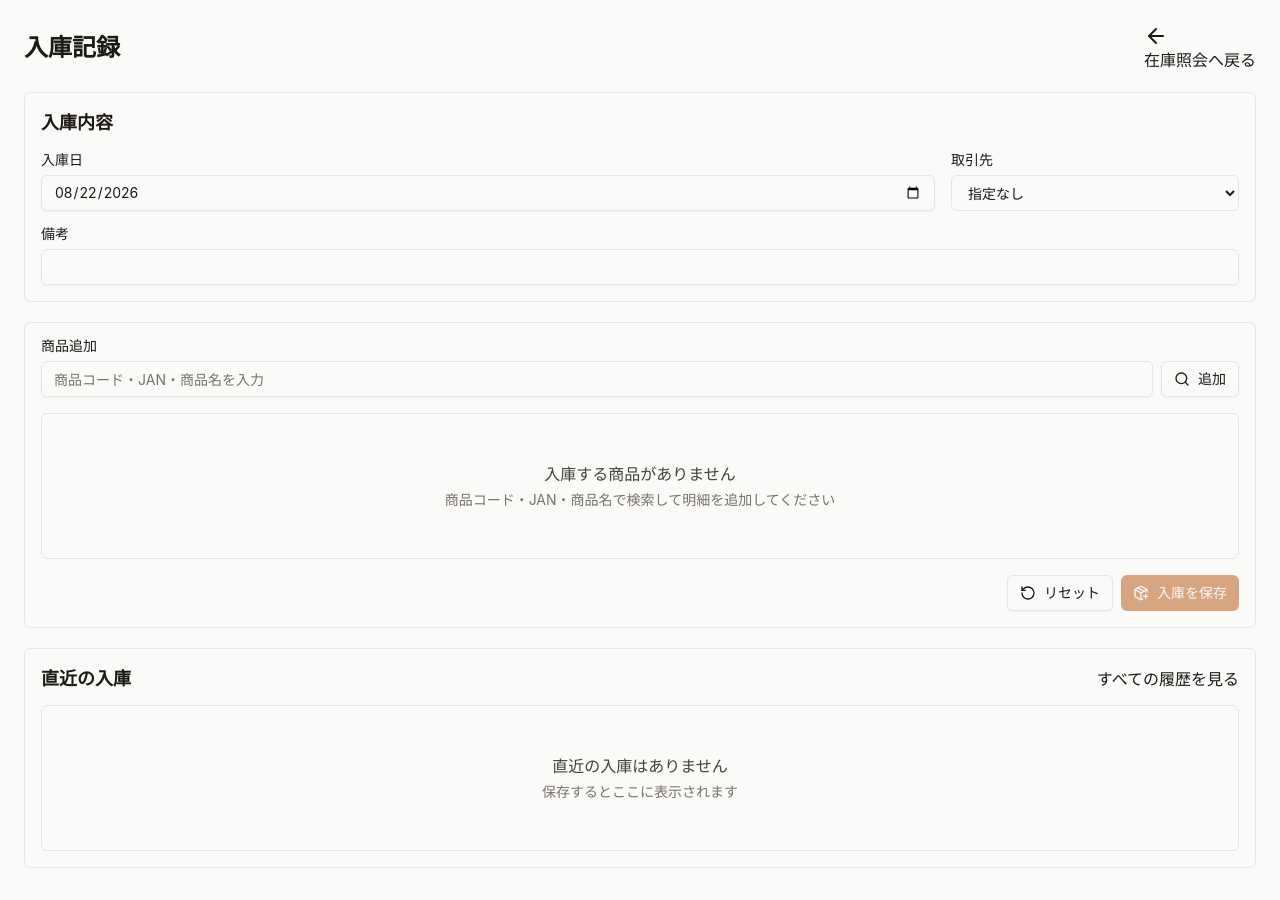
Test: ReceivingPage (UI-02 / REQ-201) › adds a single search result and returns focus to the search input
The width and height of the screenshot is (1280, 900).
Type "P-001" into the dropdown named "入庫商品検索" at (597, 379), box [41,361,1153,397]
Then press Enter
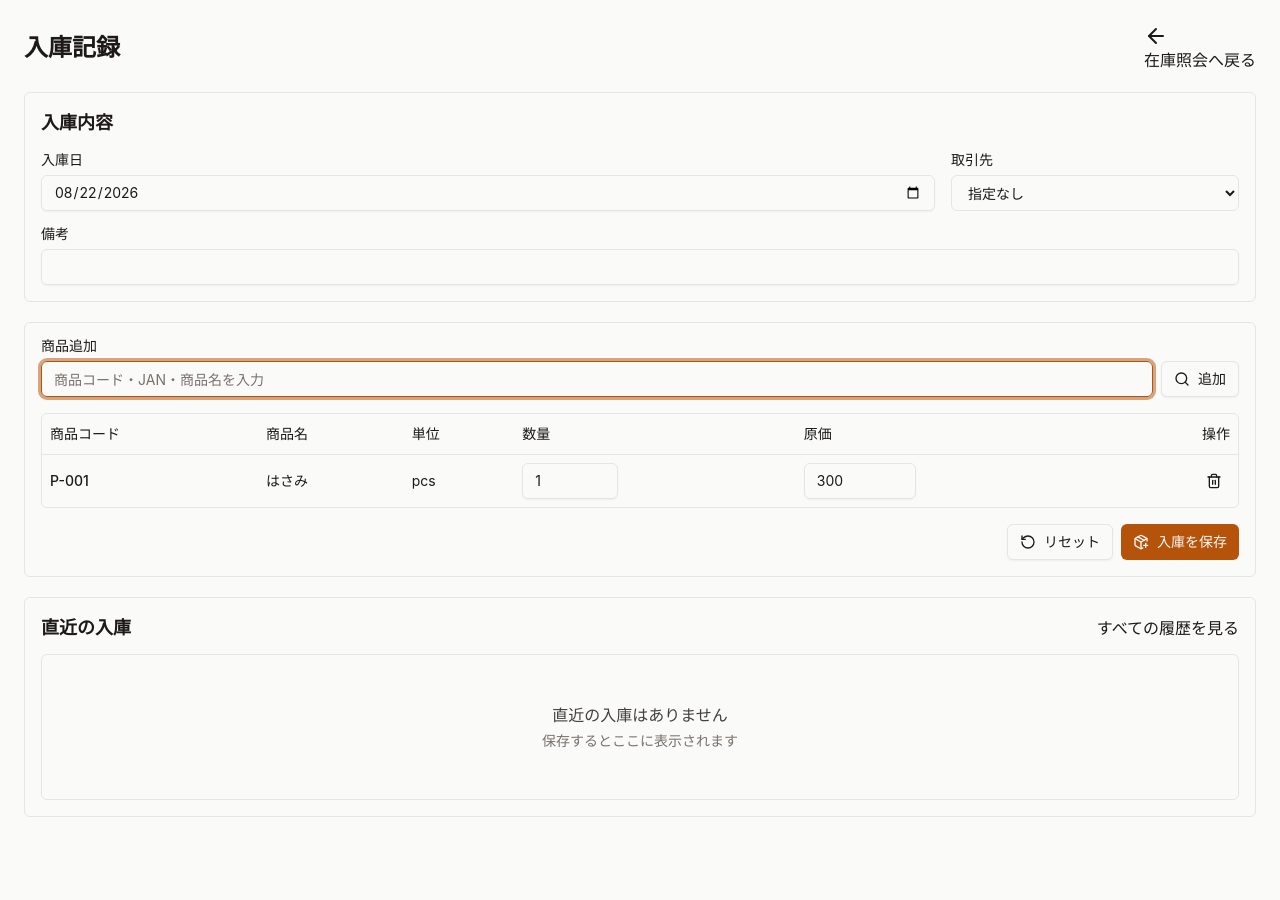
Now the text "P-001" is shown, box [42,454,258,506]
Now the text "はさみ" is shown, box [258,454,404,506]
